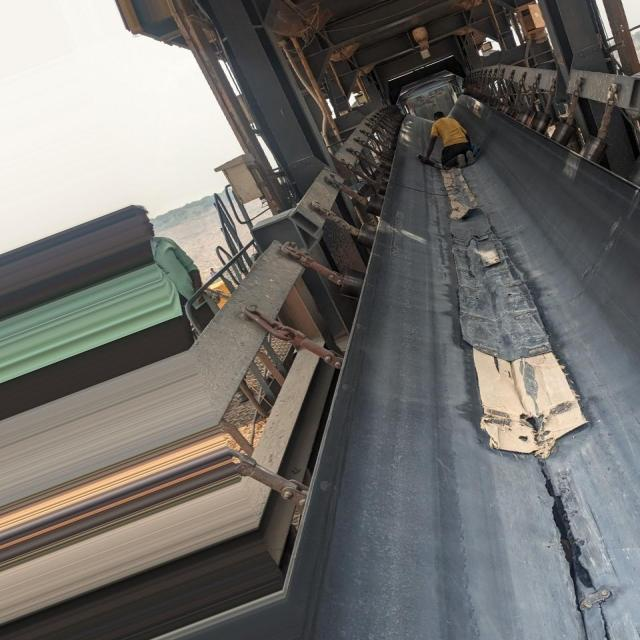Human: (418, 111, 476, 170)
Roller: (481, 95, 609, 162), (340, 147, 396, 300)
Tear: (545, 479, 591, 586)
patch work: (452, 208, 589, 454)
